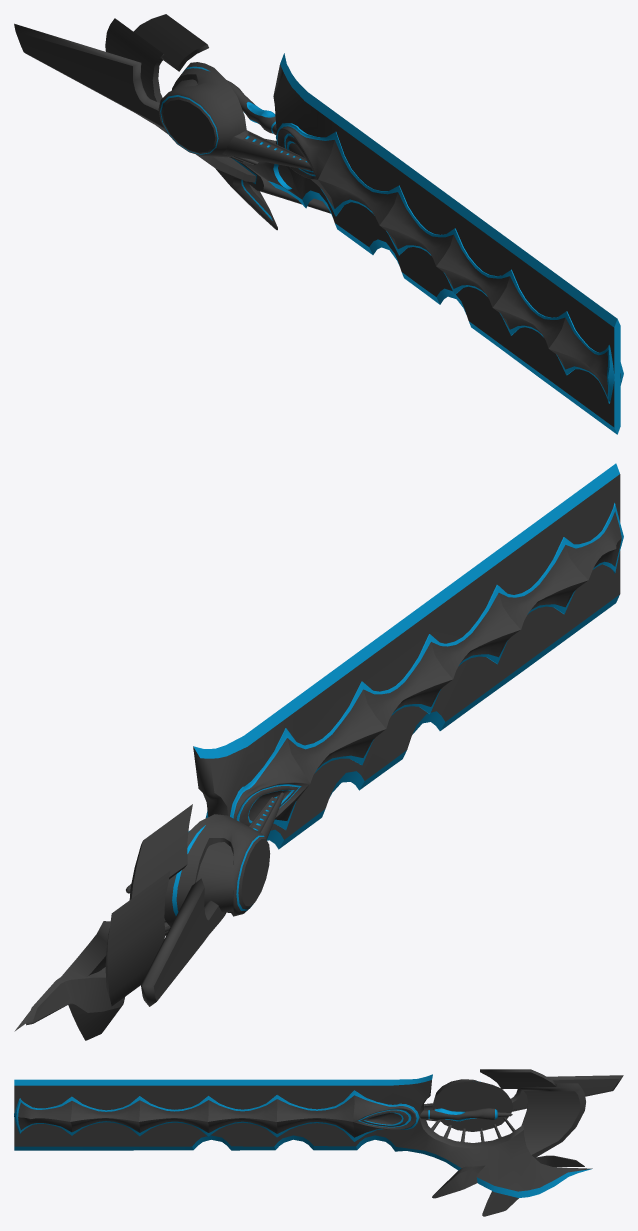
File: kwep_01.fbx
3 renders of one model, top to bottom at view 1: azimuth 30°, elevation 25°; view 2: azimuth 150°, elevation 25°; view 3: azimuth 270°, elevation 25°, orthographic. The views are drawn at different scales.
Parts seen in each view (by area): view 1: kwep_exebreaker; view 2: kwep_exebreaker; view 3: kwep_exebreaker.
Boxes of the visible parts, x1,y1,x2,y2 form: kwep_exebreaker: (14, 14, 623, 434); kwep_exebreaker: (14, 463, 623, 1040); kwep_exebreaker: (14, 1069, 623, 1216).
Bounding box in the file's own units: 30.76 × 36.86 × 154.
